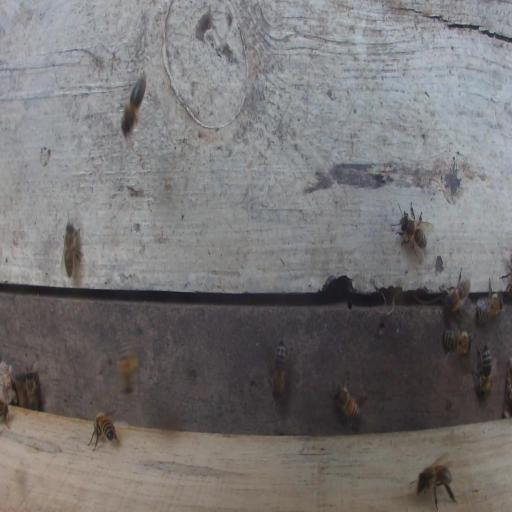nonpollenbee: (390, 203, 433, 262), (416, 455, 455, 511), (332, 377, 362, 433), (121, 73, 147, 136), (475, 276, 504, 325), (62, 217, 84, 279), (442, 267, 470, 314), (442, 329, 473, 371), (87, 411, 119, 451), (270, 338, 290, 398), (471, 339, 492, 396), (25, 370, 40, 411), (0, 398, 10, 430)
pollenbee: (116, 334, 141, 398)
